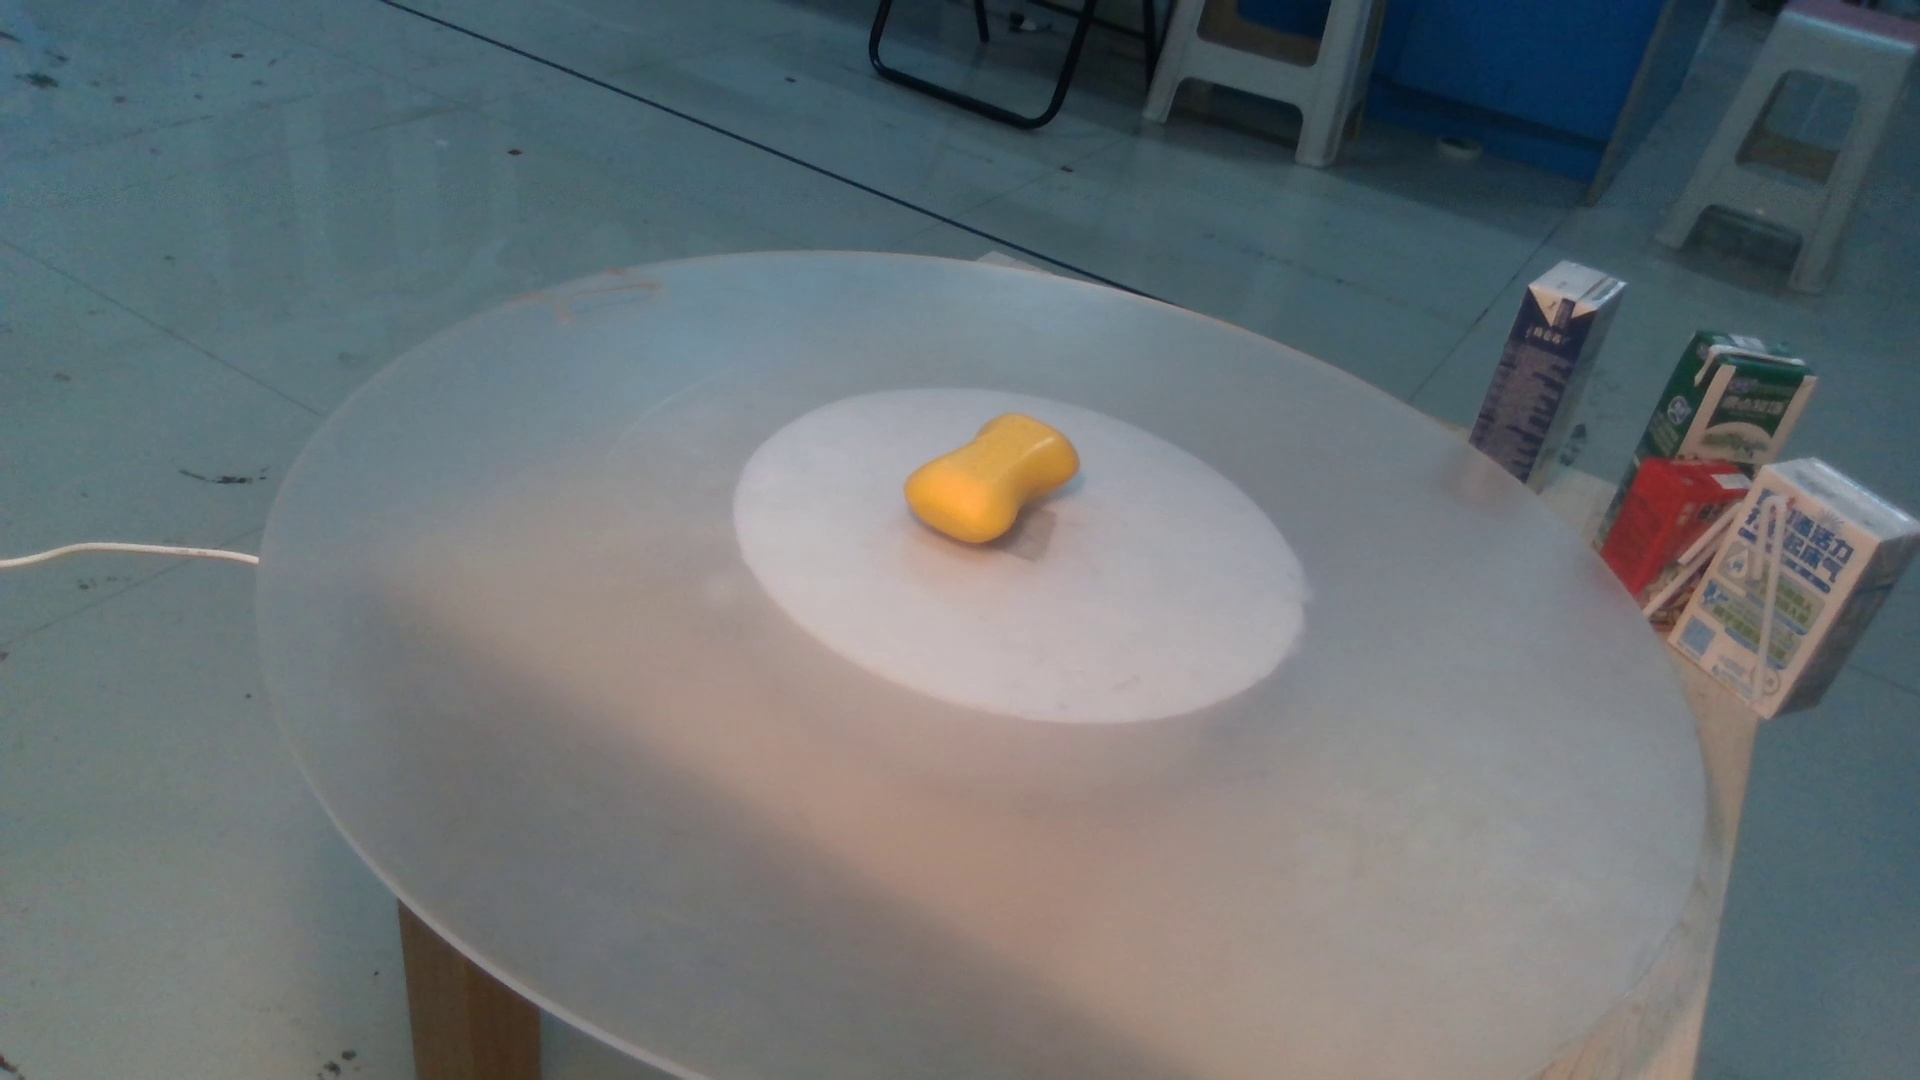CA003_1: (884, 396, 1116, 543)
